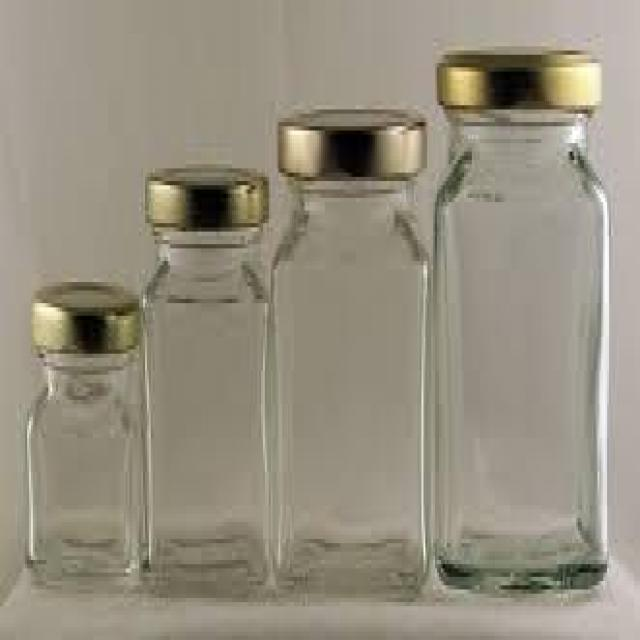non-organic waste: (426, 42, 612, 602), (268, 103, 436, 604), (140, 158, 274, 600), (22, 278, 146, 594)
